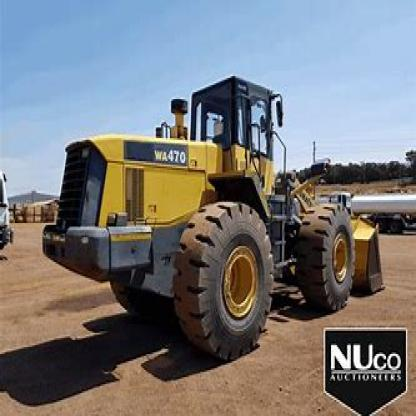bull_dozer/loader/grader: (42, 58, 410, 368)
